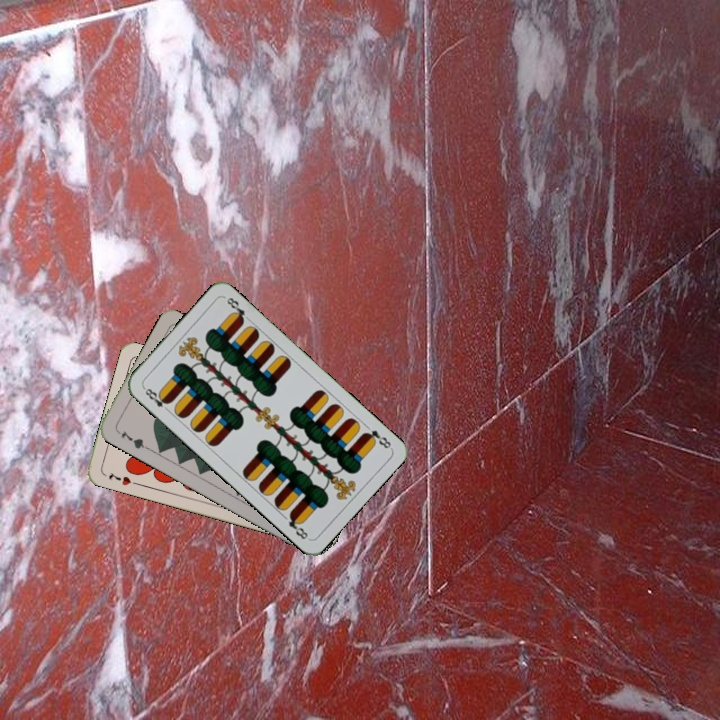E8: (139, 383, 173, 415), (359, 426, 394, 451)
G7: (113, 426, 150, 451)
H7: (105, 468, 134, 488)
